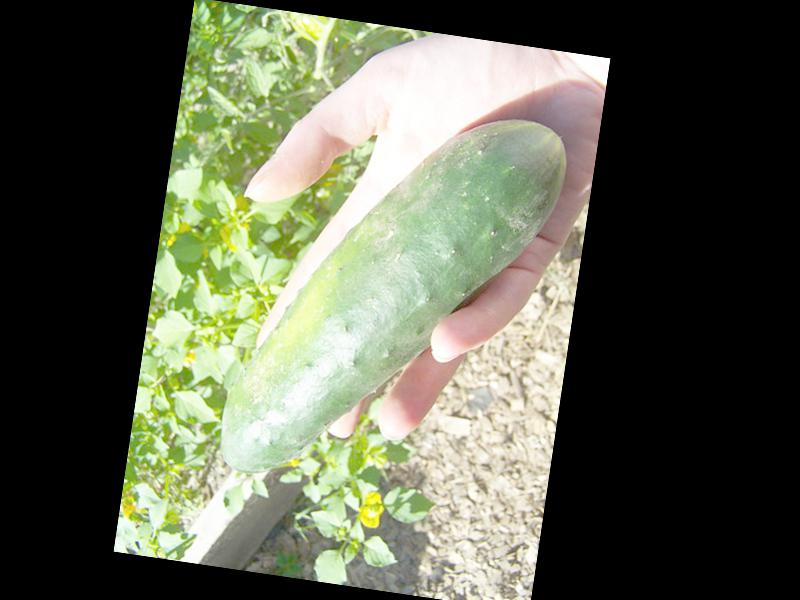Cucumber: (216, 85, 569, 513)
